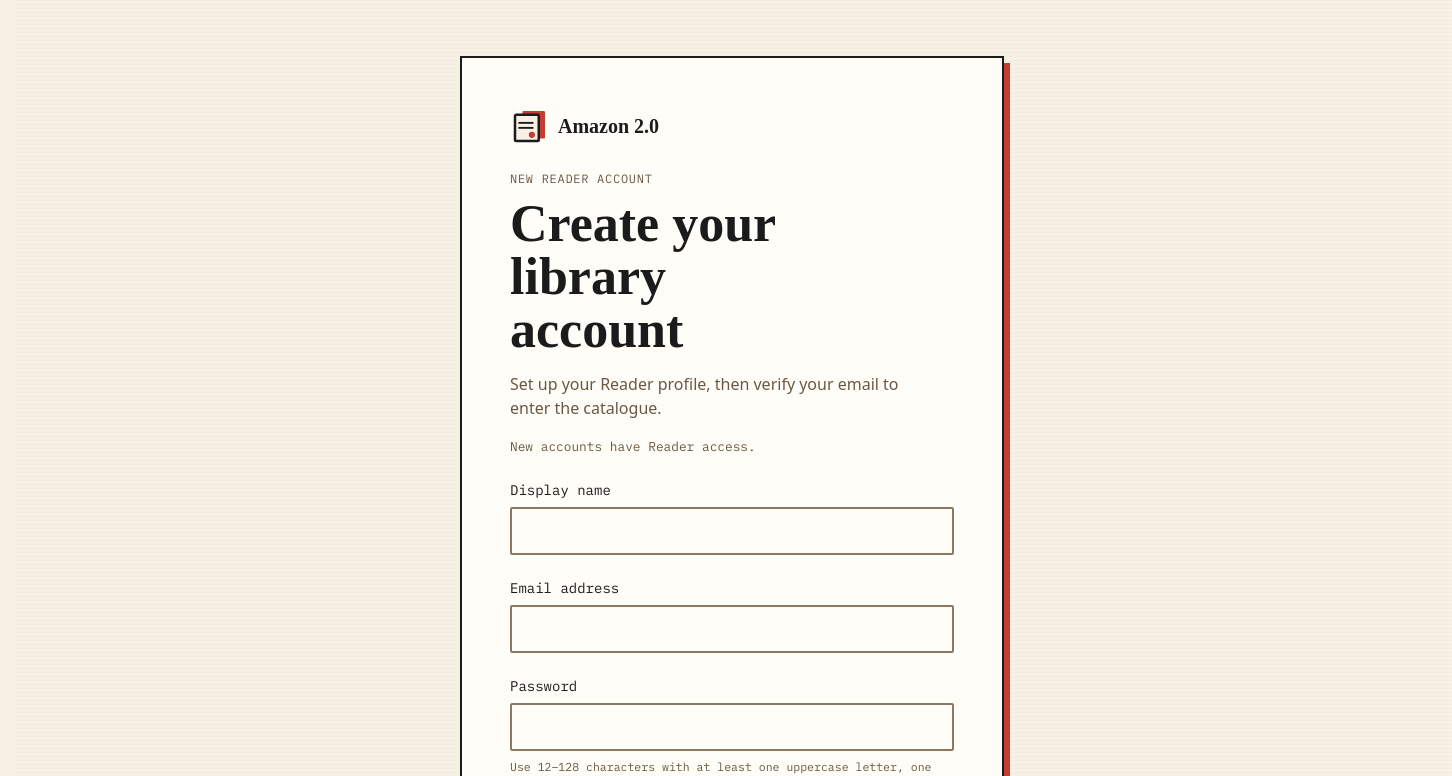
Test: Reader registration › continues to verification when tab storage is blocked
Expected: the heading "Create your library account" is shown, x1=510 y1=195 x2=775 y2=358
Type "  Rita Reader  " into the field labelled "Display name".
click(732, 531); type("  Rita Reader  ")  # box x1=510 y1=507 x2=954 y2=555
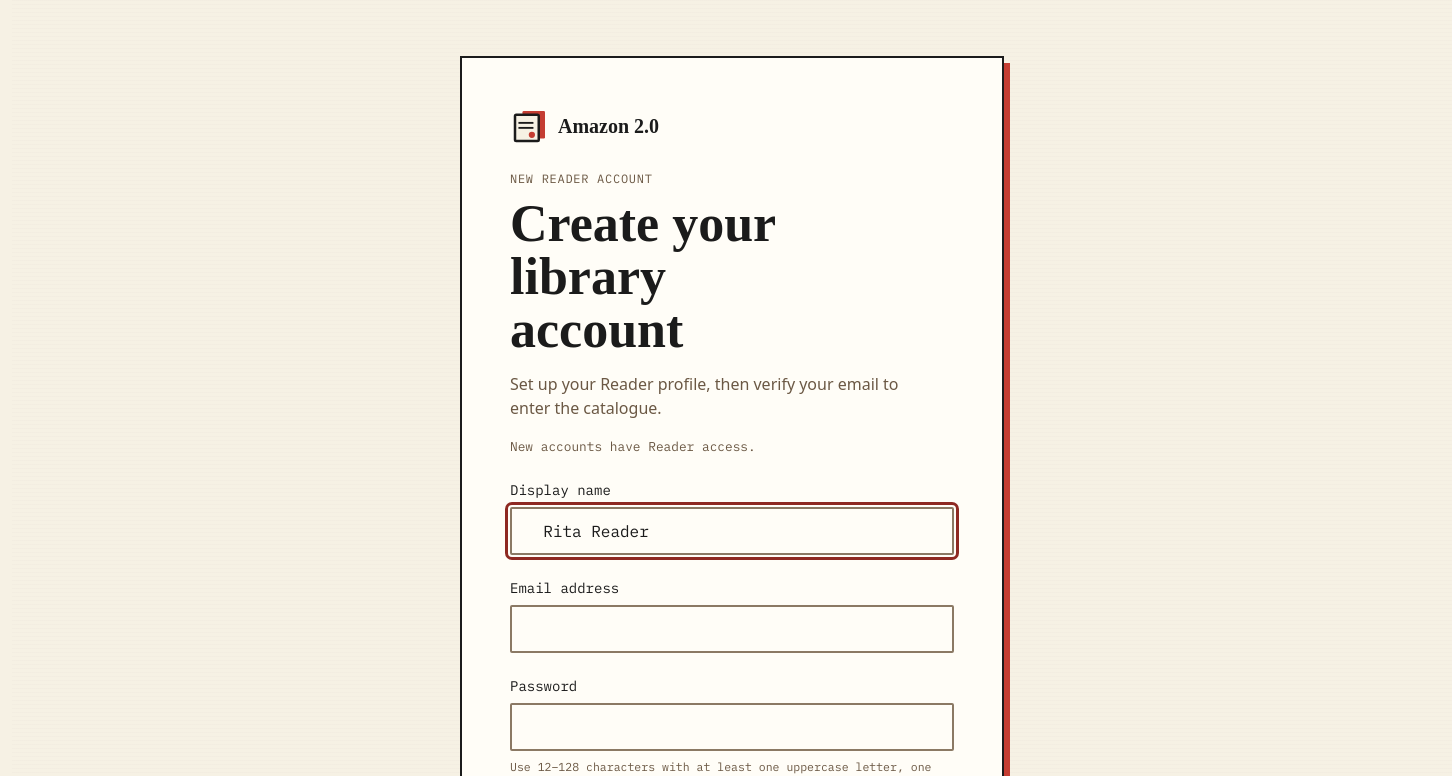
Type "RITA@Example.COM" into the field labelled "Email address".
click(732, 629); type("RITA@Example.COM")  # box x1=510 y1=605 x2=954 y2=653
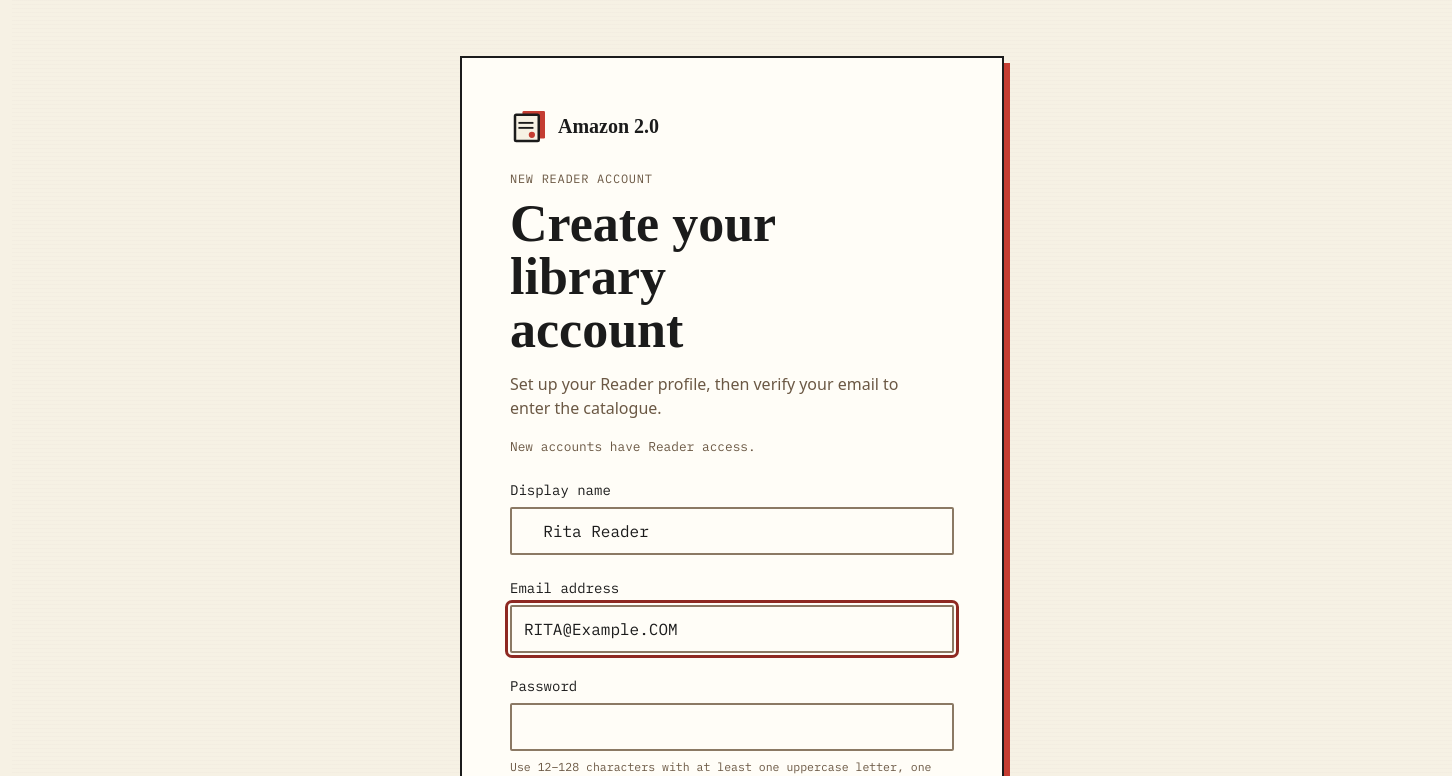
Type "LongReaderPass1" into the password field labelled "Password".
click(732, 727); type("LongReaderPass1")  # box x1=510 y1=703 x2=954 y2=751
(page scrolled)
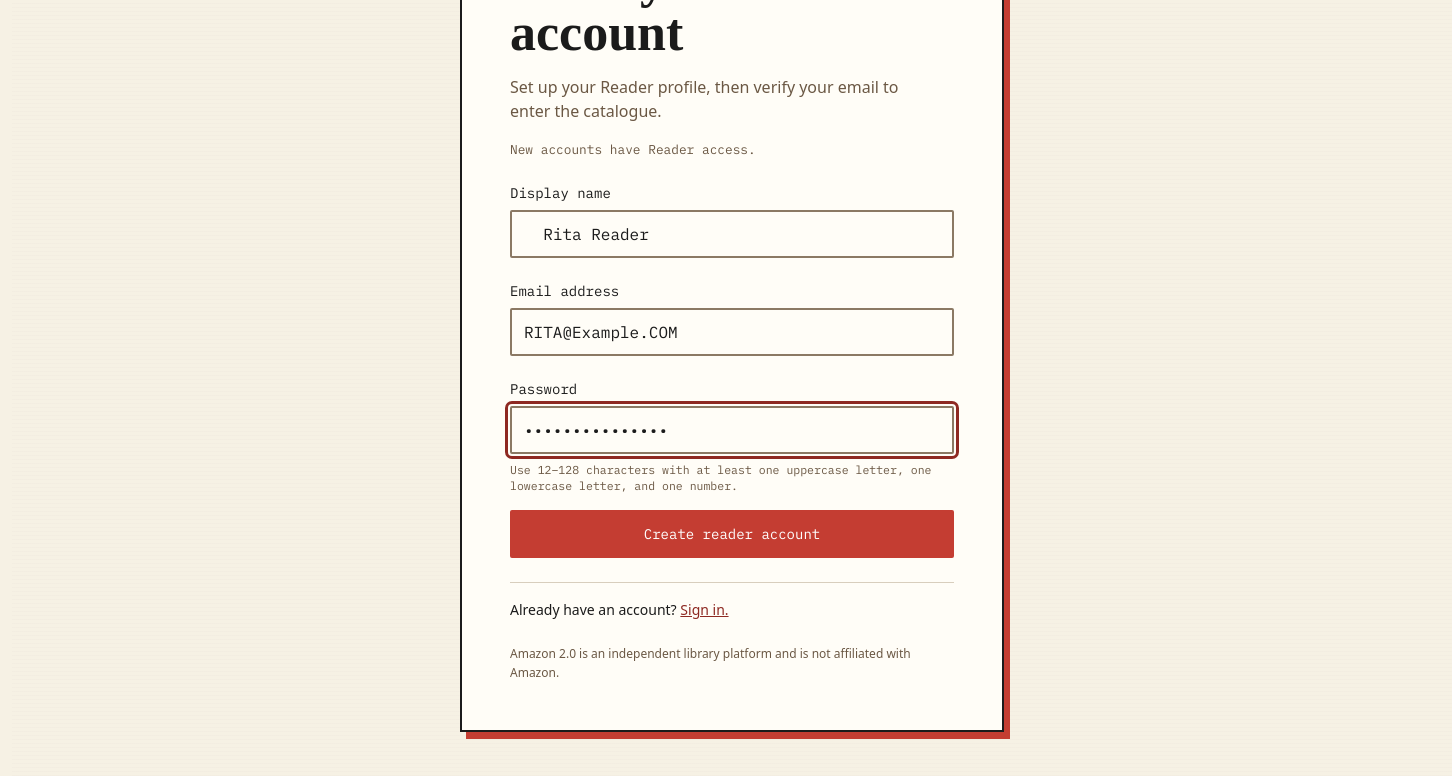
Click the button "Create reader account".
click(732, 534)  # box x1=510 y1=510 x2=954 y2=558
(page scrolled)
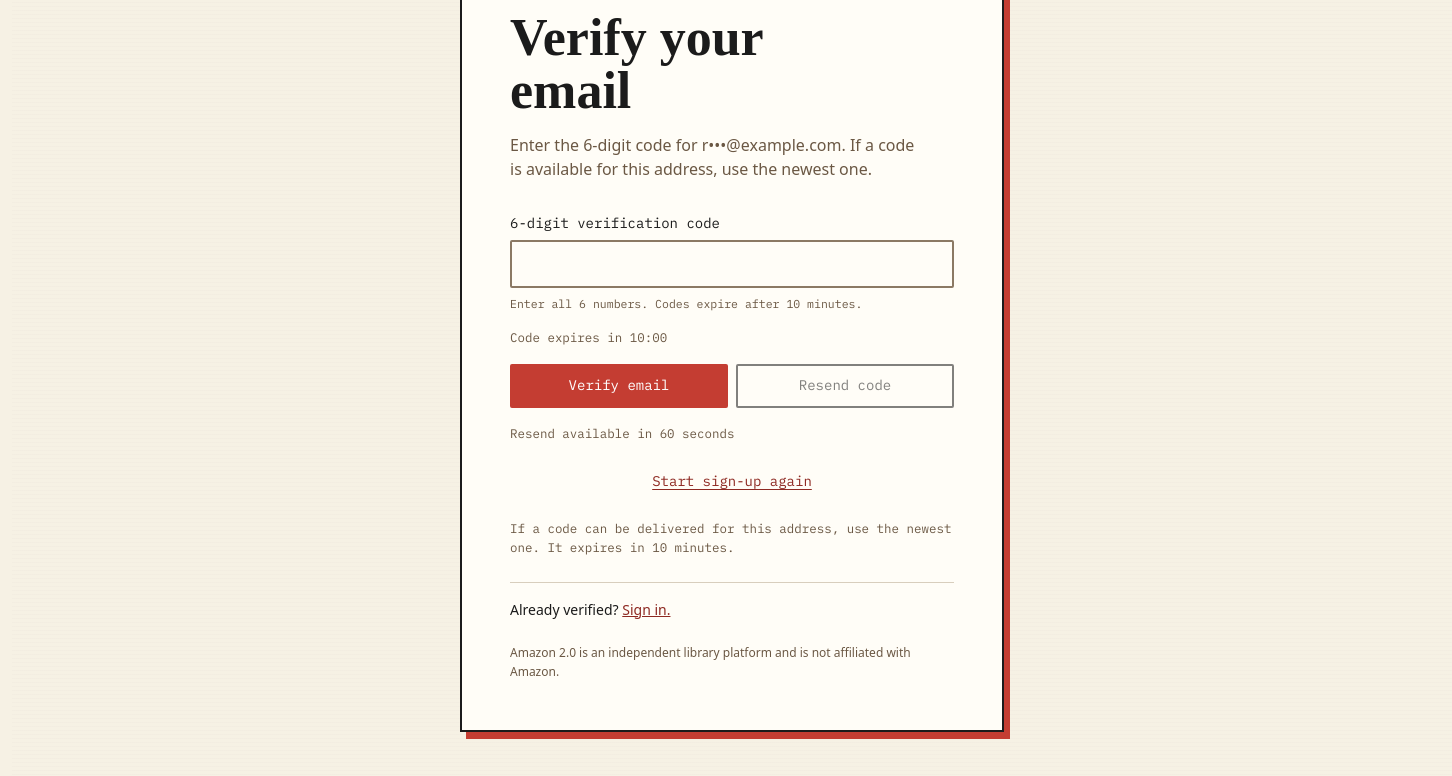
Result: the heading "Verify your email" is shown at x1=510 y1=9 x2=763 y2=119
Result: the text "Code expires in 10:00" is shown at x1=510 y1=329 x2=667 y2=345
Result: the message shows "If a code can be delivered for this address, use the newest one. It expires in 10 minutes." at x1=510 y1=520 x2=951 y2=555
